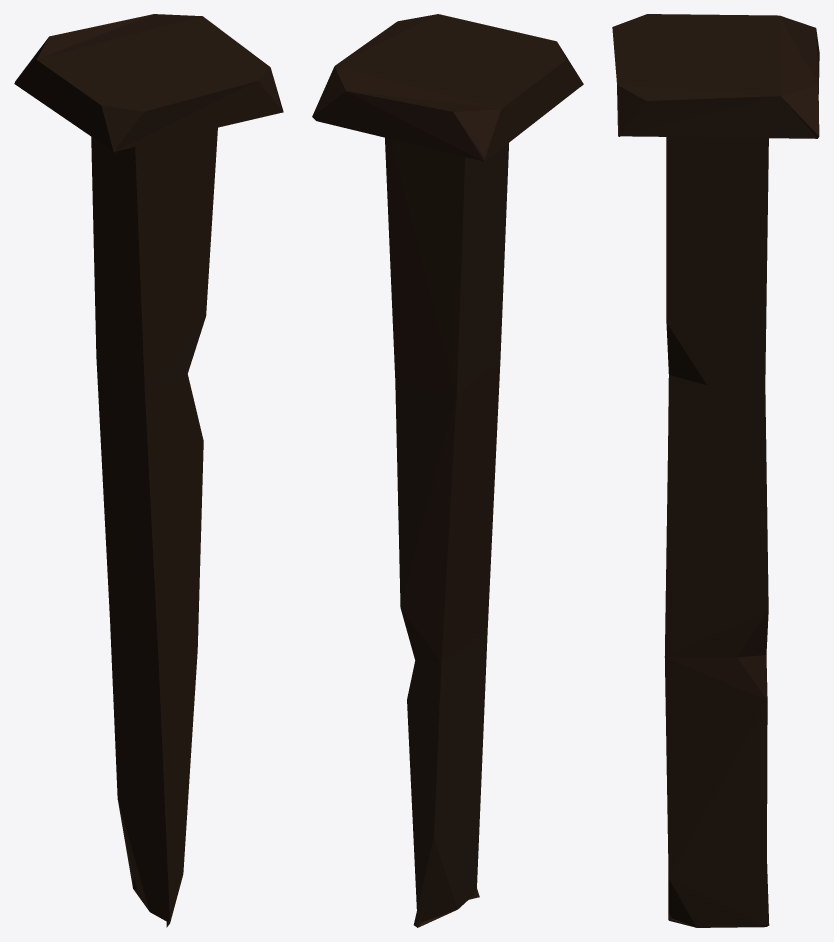
The model's file is SFFA_Tool_003.fbx.
3 renders of one model, left to right at view 1: azimuth 30°, elevation 25°; view 2: azimuth 150°, elevation 25°; view 3: azimuth 270°, elevation 25°, orthographic. The views are drawn at different scales.
Parts seen in each view (by area): view 1: SFFA_Tool_003; view 2: SFFA_Tool_003; view 3: SFFA_Tool_003.
Boxes of the visible parts, x1,y1,x2,y2 form: SFFA_Tool_003: (14,14,283,927); SFFA_Tool_003: (312,14,583,927); SFFA_Tool_003: (612,14,819,927).
Bounding box in the file's own units: 5.31 × 24.96 × 5.39.
